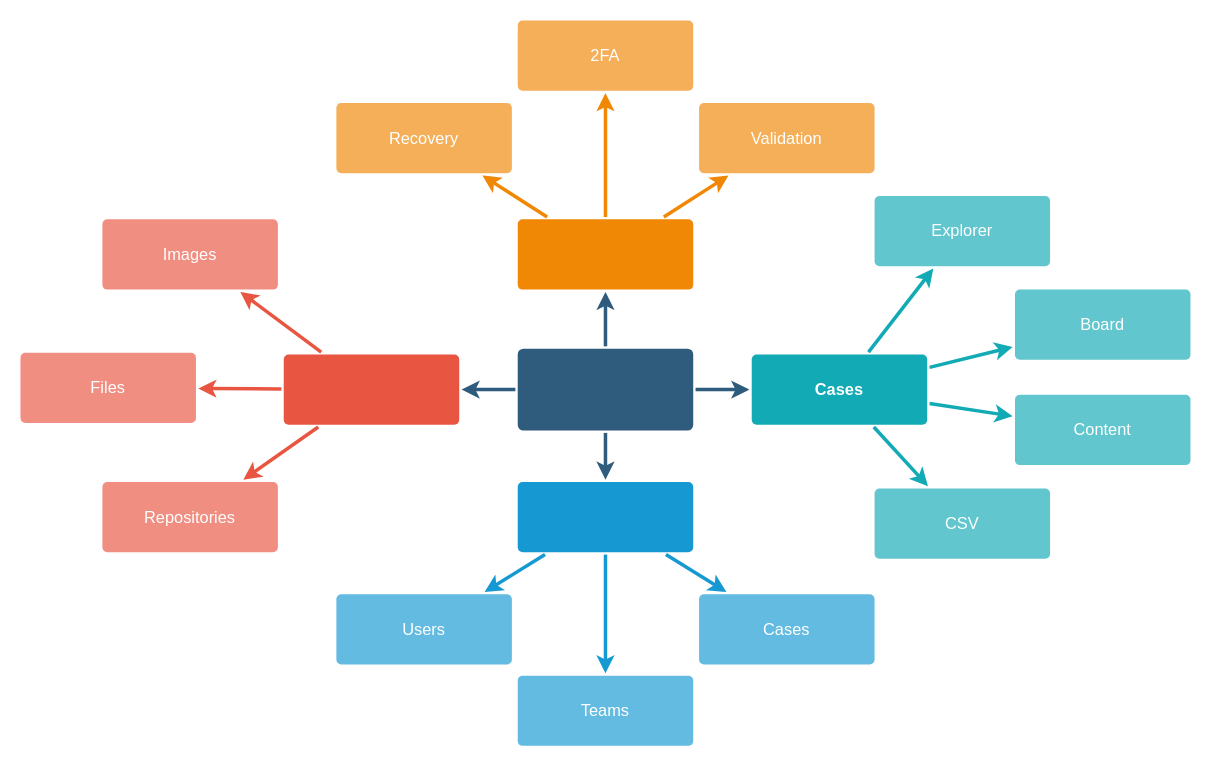
The diagram is 1210 pixels wide and 765 high, and some of its shapes have lost their labels. The centre of each missing label's shape, as x and y in pixels:
Authentication: the point at 605,254
KenSentMe: the point at 605,389
Management: the point at 605,516
Misc: the point at 371,389
